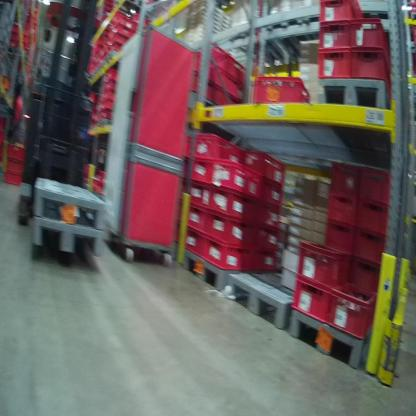pallet: (316, 75, 393, 157), (287, 305, 379, 368), (178, 244, 281, 297), (226, 267, 296, 336), (30, 175, 107, 234), (31, 199, 108, 256), (233, 25, 292, 73), (264, 15, 310, 62), (353, 9, 390, 28)
pallet_truck: (14, 1, 115, 264)
small_load_carrier: (325, 282, 384, 333), (297, 242, 353, 293), (252, 68, 311, 116), (286, 265, 331, 326), (350, 22, 395, 73), (212, 155, 262, 194), (352, 194, 396, 238), (206, 208, 253, 249), (201, 236, 247, 275), (349, 260, 389, 304), (353, 49, 395, 89), (194, 131, 239, 167), (206, 194, 258, 225), (325, 158, 362, 201), (208, 43, 245, 85), (353, 225, 390, 265), (356, 166, 395, 202), (319, 0, 367, 28), (325, 191, 354, 235), (323, 219, 353, 261), (320, 16, 351, 50), (211, 70, 240, 102), (317, 50, 351, 77), (190, 153, 217, 186), (202, 92, 235, 118), (261, 144, 284, 181), (248, 229, 280, 252), (259, 175, 284, 204), (183, 63, 206, 92), (185, 208, 206, 238), (190, 186, 209, 218), (182, 231, 202, 261), (190, 48, 210, 77), (259, 201, 278, 229), (2, 168, 25, 188), (5, 154, 24, 176), (8, 136, 24, 162)
